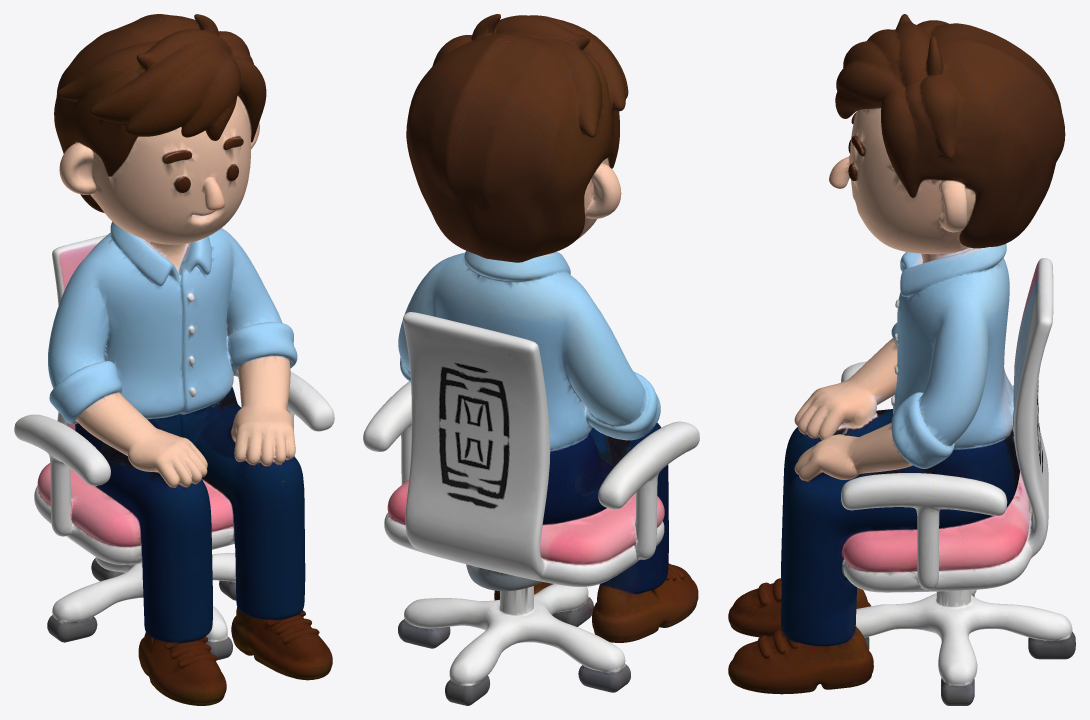
Rendered from seat_male.glb.
The picture shows the model from 3 angles, left to right: view 1: azimuth 30°, elevation 25°; view 2: azimuth 150°, elevation 25°; view 3: azimuth 270°, elevation 25°; orthographic projection. The views are drawn at different scales.
Bounding box in the file's own units: 0.8269 × 1.9 × 0.9455.
1 material, 1 textured.
